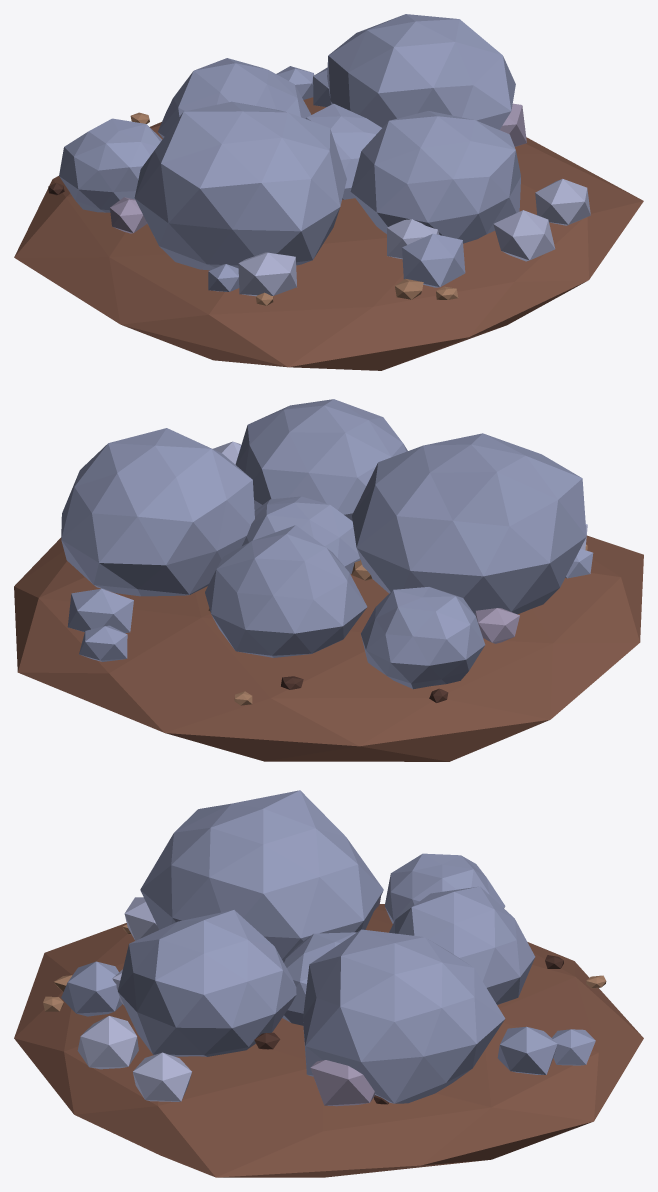
The model's file is hematita.glb.
The picture shows the model from 3 angles, top to bottom: view 1: azimuth 30°, elevation 25°; view 2: azimuth 150°, elevation 25°; view 3: azimuth 270°, elevation 25°; orthographic projection. The views are drawn at different scales.
Parts seen in each view (by area): view 1: hematita; view 2: hematita; view 3: hematita.
Boxes of the visible parts, left/top/right/bottom form: hematita: left=14, top=14, right=643, bottom=370; hematita: left=14, top=399, right=643, bottom=761; hematita: left=14, top=790, right=643, bottom=1177.
Size of the model in its own units: 1.08 by 0.419 by 1.06.
